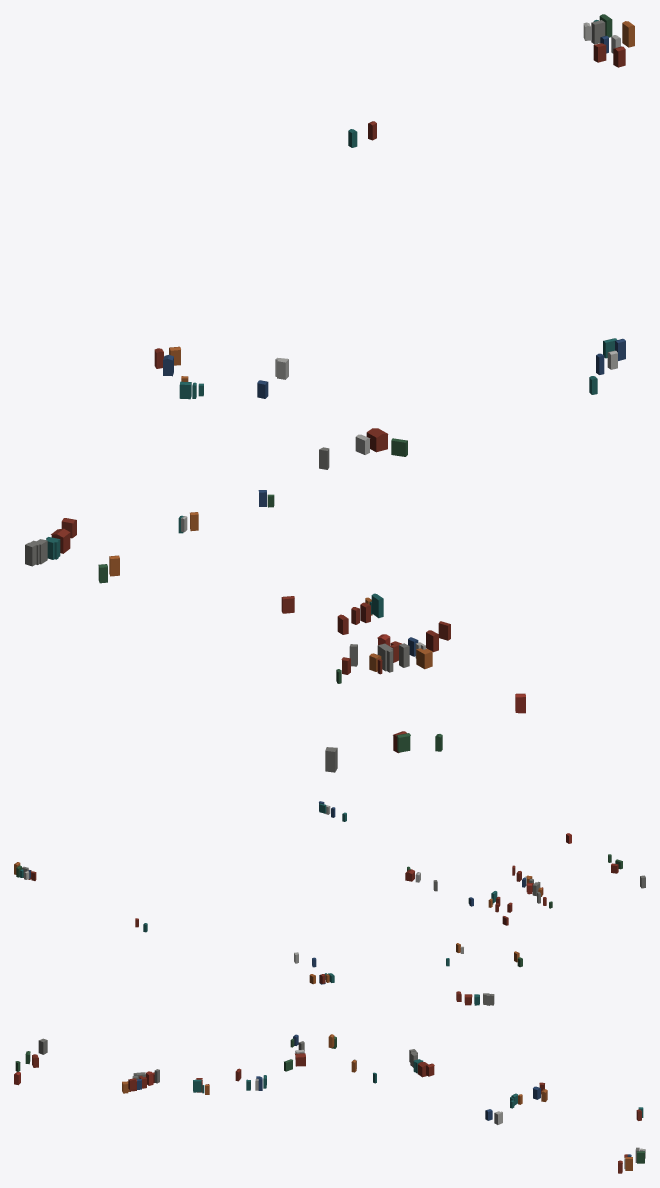
The model's file is near-15-27363-14878.9945244c.glb.
3 views of the same model, one above another, from view 1: azimuth 30°, elevation 25°; view 2: azimuth 150°, elevation 25°; view 3: azimuth 270°, elevation 25° (orthographic). The views are drawn at different scales.
Bounding box in the file's own units: 985 × 274 × 1120.
